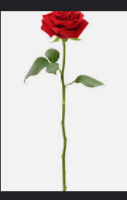RedRose: (25, 8, 96, 40)
